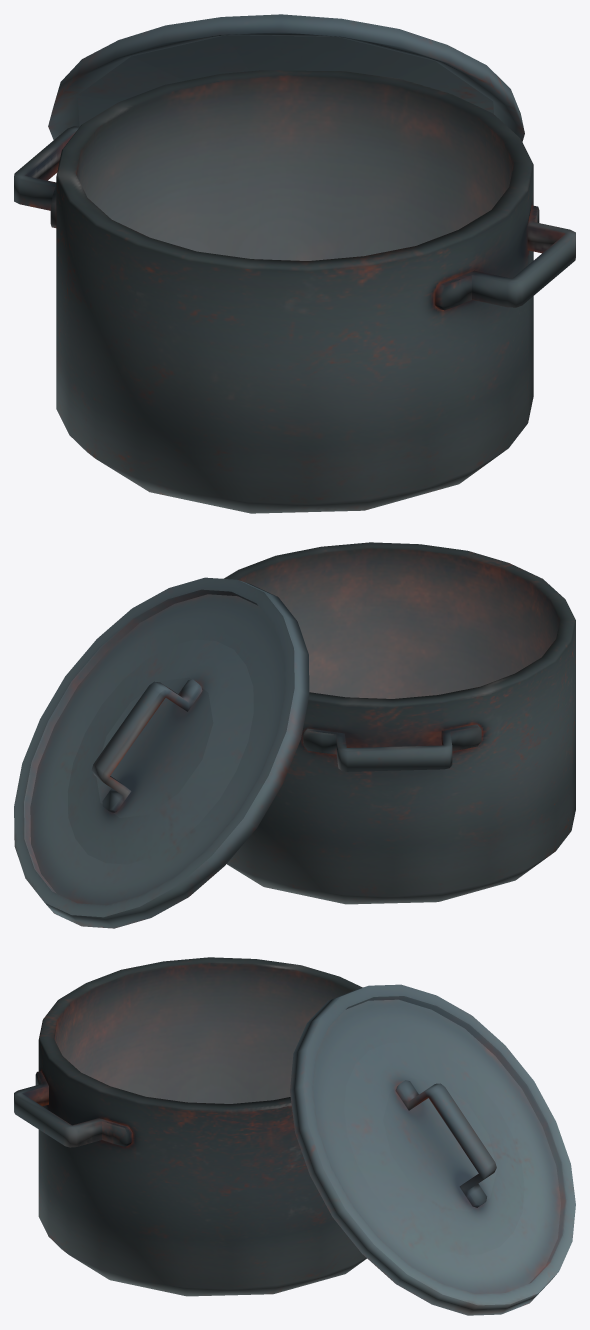
File: sb_obj_indoor002_IronPot01c.fbx
The picture shows the model from 3 angles, top to bottom: view 1: azimuth 30°, elevation 25°; view 2: azimuth 150°, elevation 25°; view 3: azimuth 270°, elevation 25°; orthographic projection. The views are drawn at different scales.
Visible parts, largest first — view 1: sb_obj_indoor002_IronPot01c; view 2: sb_obj_indoor002_IronPot01c; view 3: sb_obj_indoor002_IronPot01c.
Boxes of the visible parts, x1,y1,x2,y2 form: sb_obj_indoor002_IronPot01c: (14, 14, 575, 513); sb_obj_indoor002_IronPot01c: (14, 542, 575, 928); sb_obj_indoor002_IronPot01c: (14, 957, 575, 1315).
Bounding box in the file's own units: 0.4899 × 0.2996 × 0.5945.
